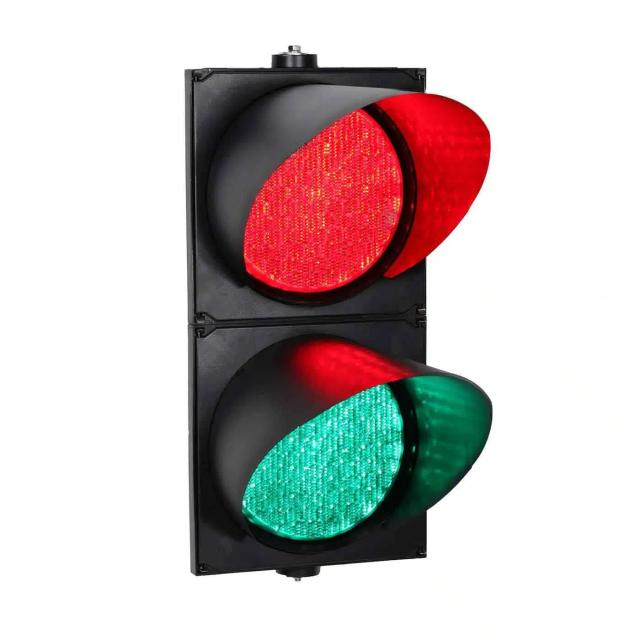green: (204, 339, 452, 560)
red: (215, 84, 439, 316)
